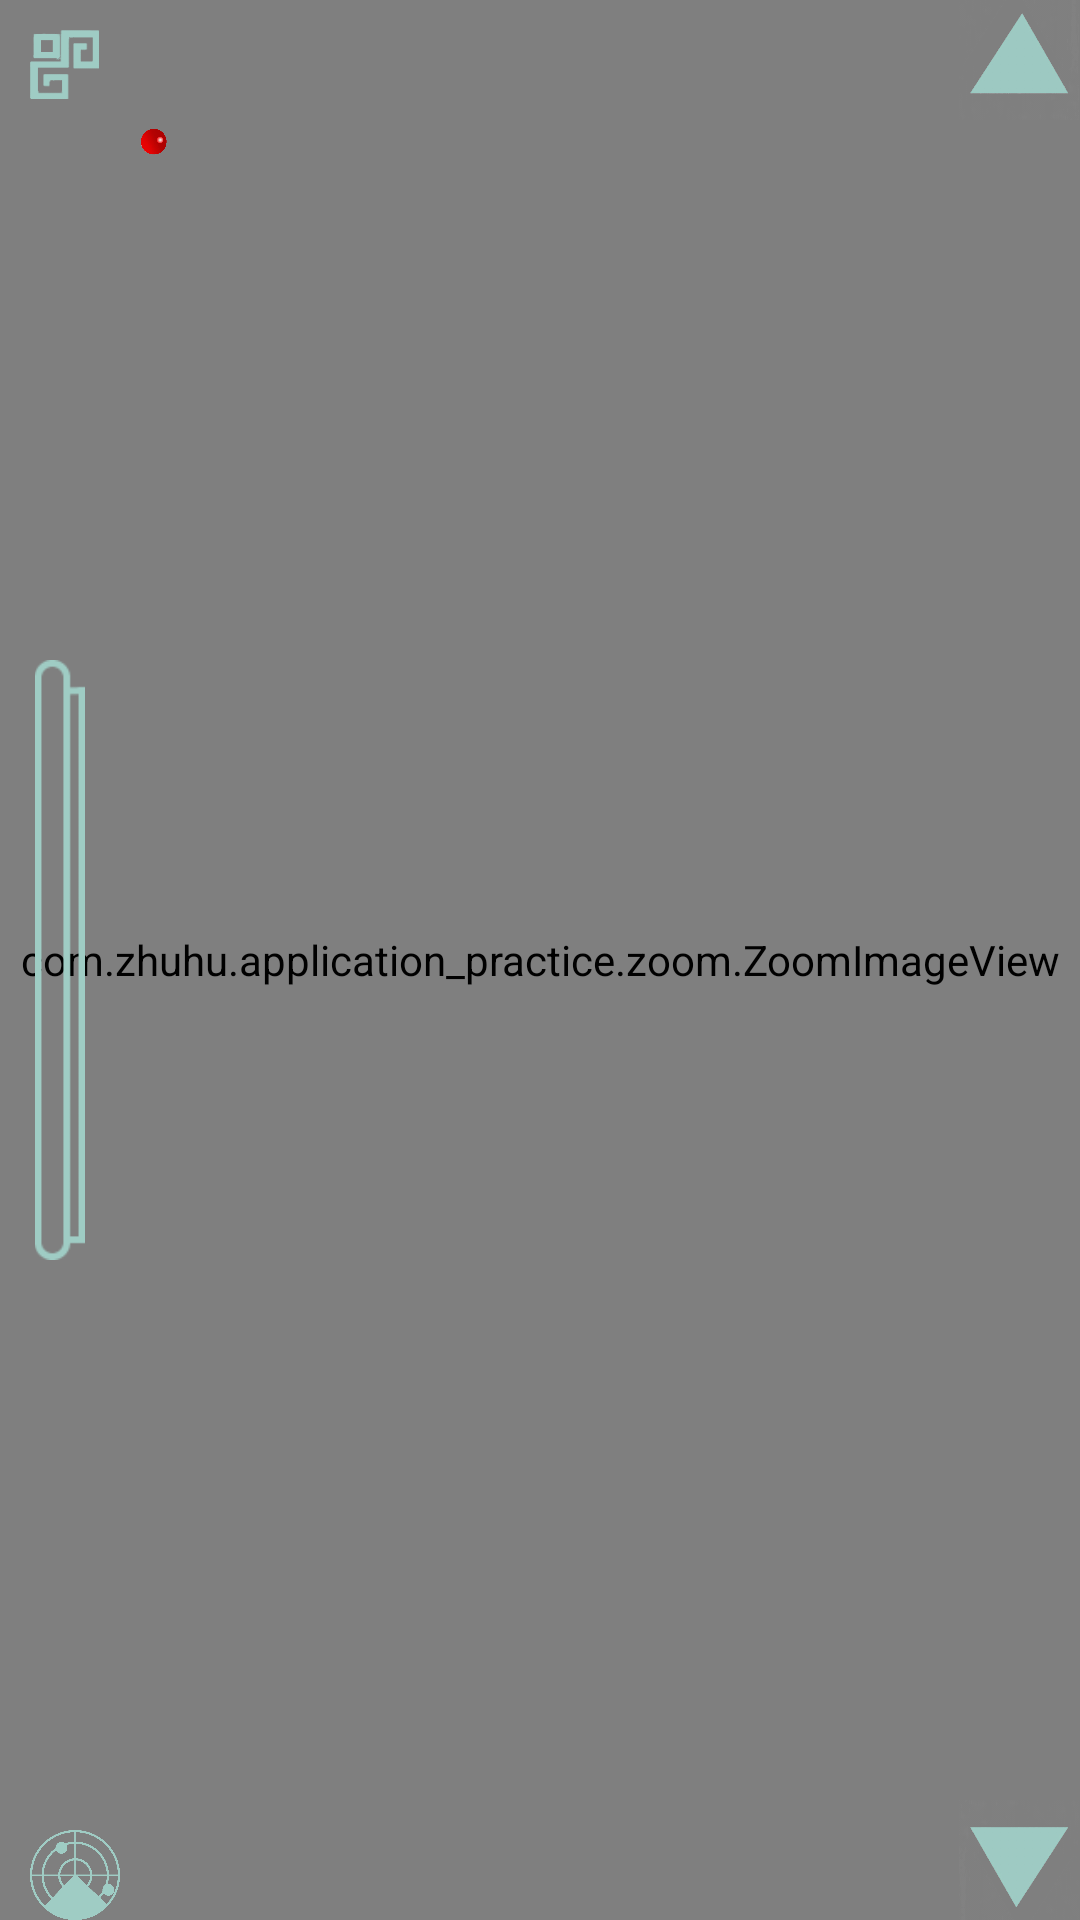

Icon bounding boxes for this 1080px×1920px phone screenshot, format (x1, y1, x2, y2):
pic downnarrows: (970, 1827, 1068, 1907)
pic upnarrows: (970, 14, 1068, 94)
